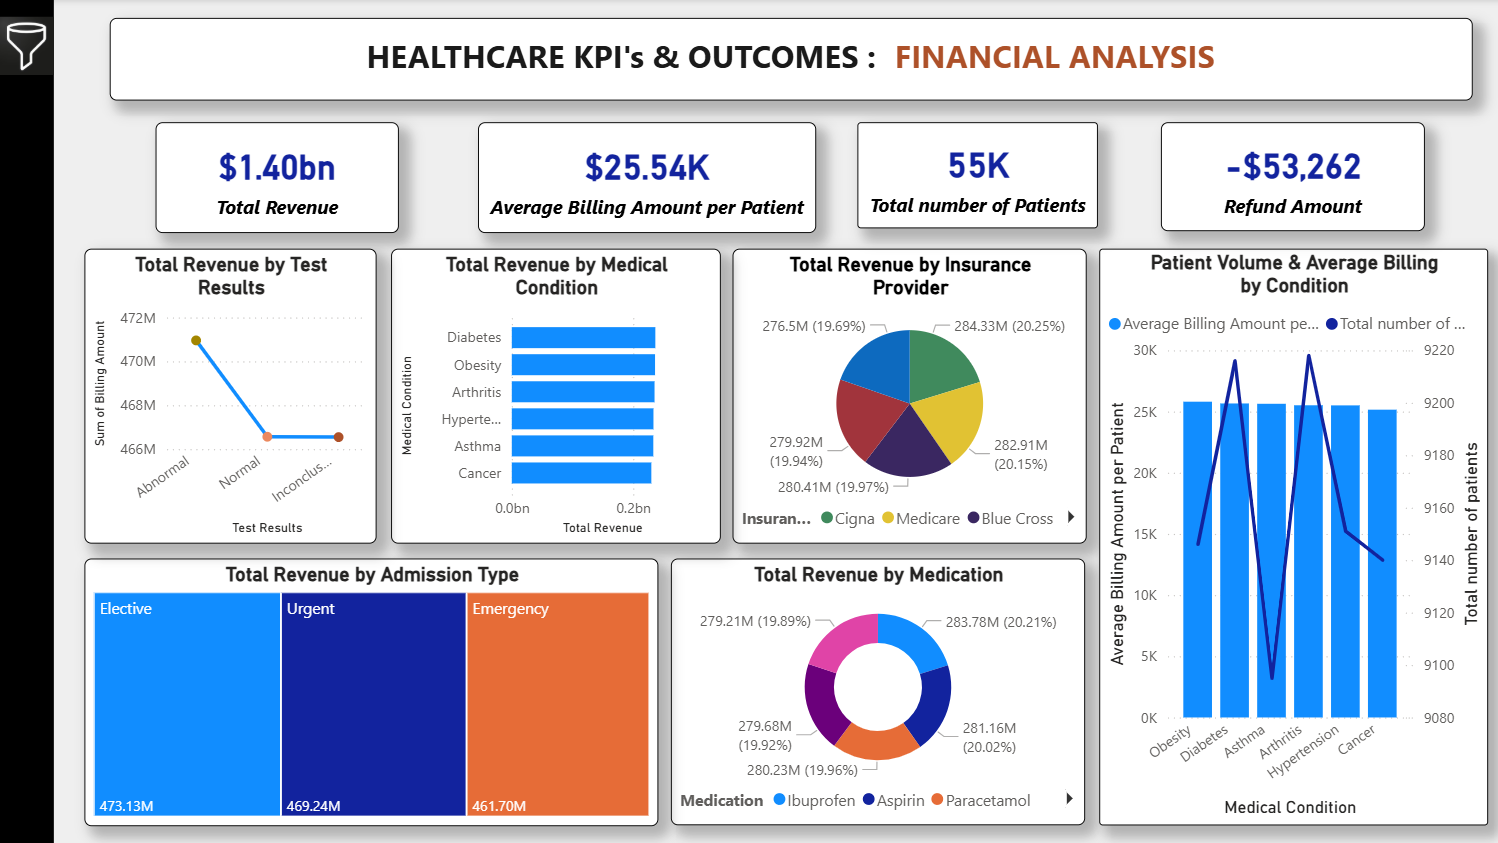

The page's visual inventory and layout, read from the dashboard file:
{"tool":"powerbi","page":{"name":"Financial Analysis","canvas":[1280,720],"ordinal":0},"visuals":[{"type":"card","fields":{"Values":["Sum(healthcare_dataset.Billing Amount)"]},"box":[134.6,105,207.3,94.2],"z":0},{"type":"card","fields":{"Values":["Avg(healthcare_dataset.Billing Amount)"]},"box":[409.3,105,288.1,94.2],"z":1000},{"type":"pieChart","title":"Total Revenue by Insurance Provider","fields":{"Category":["healthcare_dataset.Insurance Provider"],"Y":["Sum(healthcare_dataset.Billing Amount)"]},"box":[626,212.4,301.8,251.5],"z":2000},{"type":"donutChart","title":"Total Revenue by Medication","fields":{"Category":["healthcare_dataset.Medication"],"Y":["Sum(healthcare_dataset.Billing Amount)"]},"box":[573.5,476.6,352.7,227.5],"z":4000},{"type":"clusteredBarChart","title":"Total Revenue  by Medical Condition","fields":{"Category":["healthcare_dataset.Medical Condition"],"Y":["Sum(healthcare_dataset.Billing Amount)"]},"box":[335.4,212.4,280.9,251.5],"z":6000},{"type":"treemap","title":"Total Revenue by Admission Type","fields":{"Group":["healthcare_dataset.Admission Type"],"Values":["Sum(healthcare_dataset.Billing Amount)"]},"box":[74.1,476.5,489.1,227.8],"z":8000},{"type":"lineClusteredColumnComboChart","title":"Patient Volume & Average Billing by Condition","fields":{"Y2":["healthcare_dataset.Total number of patients"],"Y":["Avg(healthcare_dataset.Billing Amount)"],"Category":["healthcare_dataset.Medical Condition"]},"box":[938.3,212.7,331.2,491.4],"z":9000},{"type":"card","fields":{"Values":["Sum(healthcare_dataset.name_exists)"]},"box":[732.4,105,204.6,90.2],"z":9500},{"type":"lineChart","title":"Total Revenue by Test Results","fields":{"Category":["healthcare_dataset.Test Results"],"Y":["Sum(healthcare_dataset.Billing Amount)"]},"box":[74.1,212.4,248.7,251.5],"z":10750},{"type":"shape","box":[0,0,48,720],"z":12000},{"type":"image","box":[0,0,48,80],"z":14000},{"type":"card","fields":{"Values":["healthcare_dataset.Refund Amount"]},"box":[990.8,105,224.8,92.9],"z":15000},{"type":"textbox","box":[95.6,16.2,1160.5,70],"z":16000},{"type":"actionButton","box":[0,0,48.9,79.7],"z":17000}]}

Visuals, with their boxes in screenshot pixels (x1, y1, x2, y2), scaled from the page's 1280x720 canvas onto the 1498x843 screenshot:
card - Sum(healthcare_dataset.Billing Amount): x1=158 y1=123 x2=400 y2=233
card - Avg(healthcare_dataset.Billing Amount): x1=479 y1=123 x2=816 y2=233
"Total Revenue by Insurance Provider" pieChart: x1=733 y1=249 x2=1086 y2=543
"Total Revenue by Medication" donutChart: x1=671 y1=558 x2=1084 y2=824
"Total Revenue  by Medical Condition" clusteredBarChart: x1=393 y1=249 x2=721 y2=543
"Total Revenue by Admission Type" treemap: x1=87 y1=558 x2=659 y2=825
"Patient Volume & Average Billing by Condition" lineClusteredColumnComboChart: x1=1098 y1=249 x2=1486 y2=824
card - Sum(healthcare_dataset.name_exists): x1=857 y1=123 x2=1097 y2=229
"Total Revenue by Test Results" lineChart: x1=87 y1=249 x2=378 y2=543
shape: x1=0 y1=0 x2=56 y2=842
image: x1=0 y1=0 x2=56 y2=94
card - healthcare_dataset.Refund Amount: x1=1160 y1=123 x2=1423 y2=232
textbox: x1=112 y1=19 x2=1470 y2=101
actionButton: x1=0 y1=0 x2=57 y2=93
